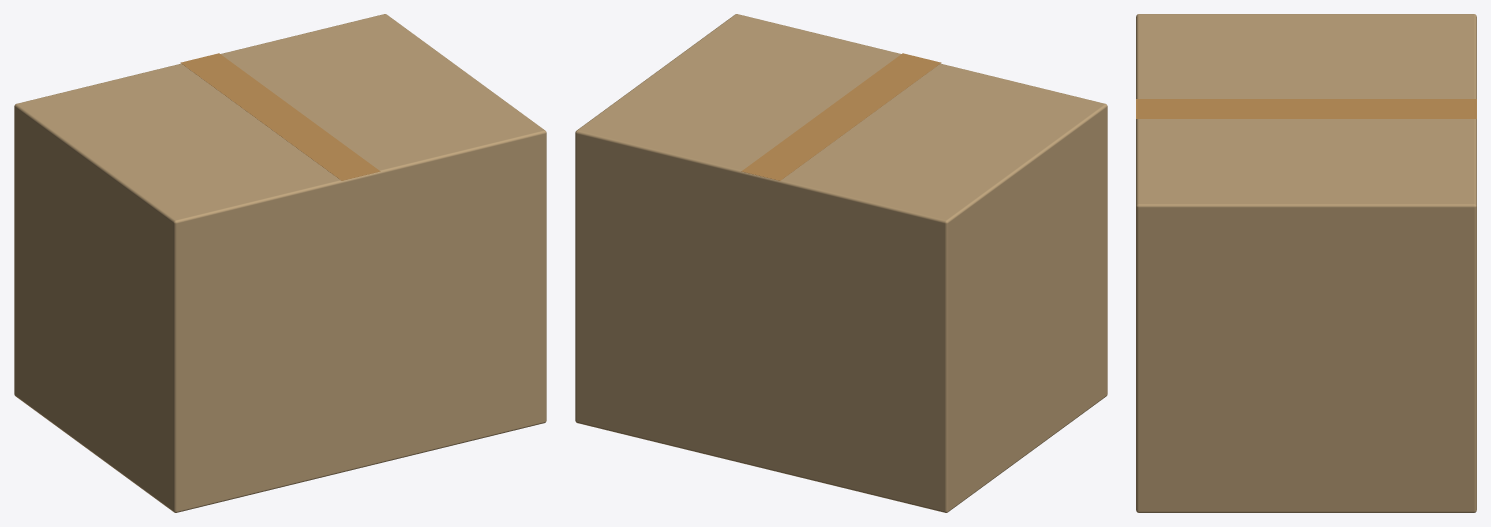
Rendered from paper.glb.
3 views of the same model, side by side, from view 1: azimuth 30°, elevation 25°; view 2: azimuth 150°, elevation 25°; view 3: azimuth 270°, elevation 25° (orthographic). The views are drawn at different scales.
Visible parts, largest first — view 1: LoadCarton, LoadCartonTape; view 2: LoadCarton, LoadCartonTape; view 3: LoadCarton, LoadCartonTape.
Boxes of the visible parts, <box> form: LoadCarton: <box>14,14,546,512</box>; LoadCartonTape: <box>180,53,380,180</box>; LoadCarton: <box>575,14,1107,512</box>; LoadCartonTape: <box>741,53,941,180</box>; LoadCarton: <box>1136,14,1476,512</box>; LoadCartonTape: <box>1136,99,1476,118</box>.
Bounding box in the file's own units: 0.48 × 0.3602 × 0.36.
